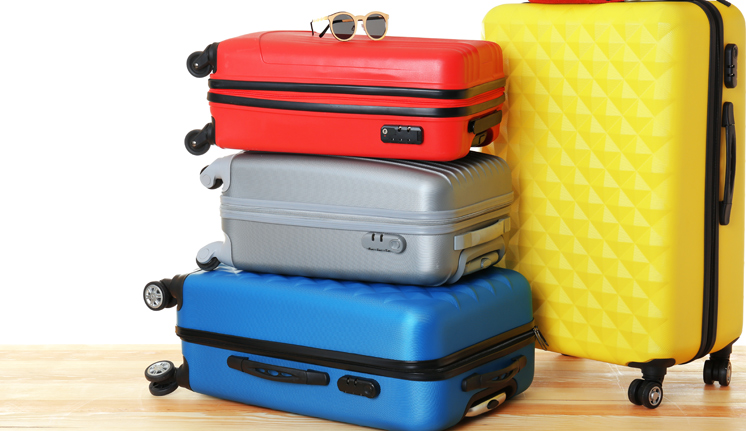luggage: (482, 1, 746, 412), (140, 262, 548, 431), (180, 21, 513, 163), (191, 145, 519, 284)
